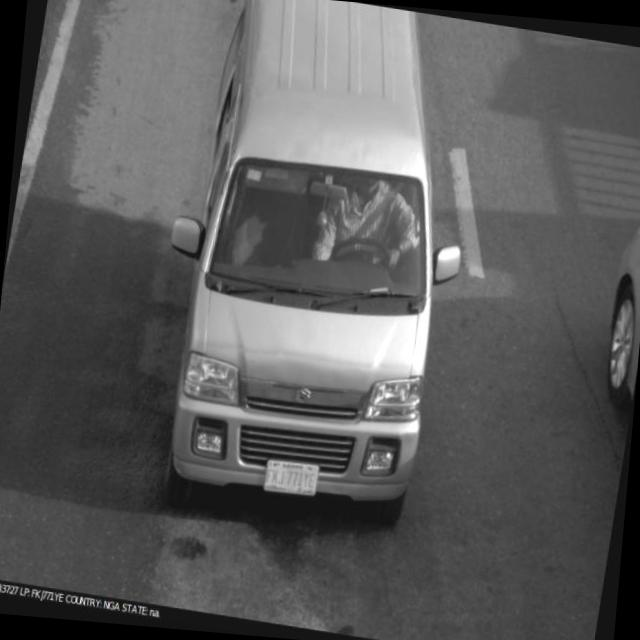person_with_seatbelt: (306, 159, 423, 306)
